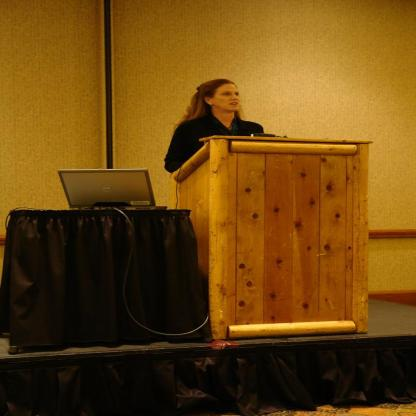board: (49, 166, 162, 212)
